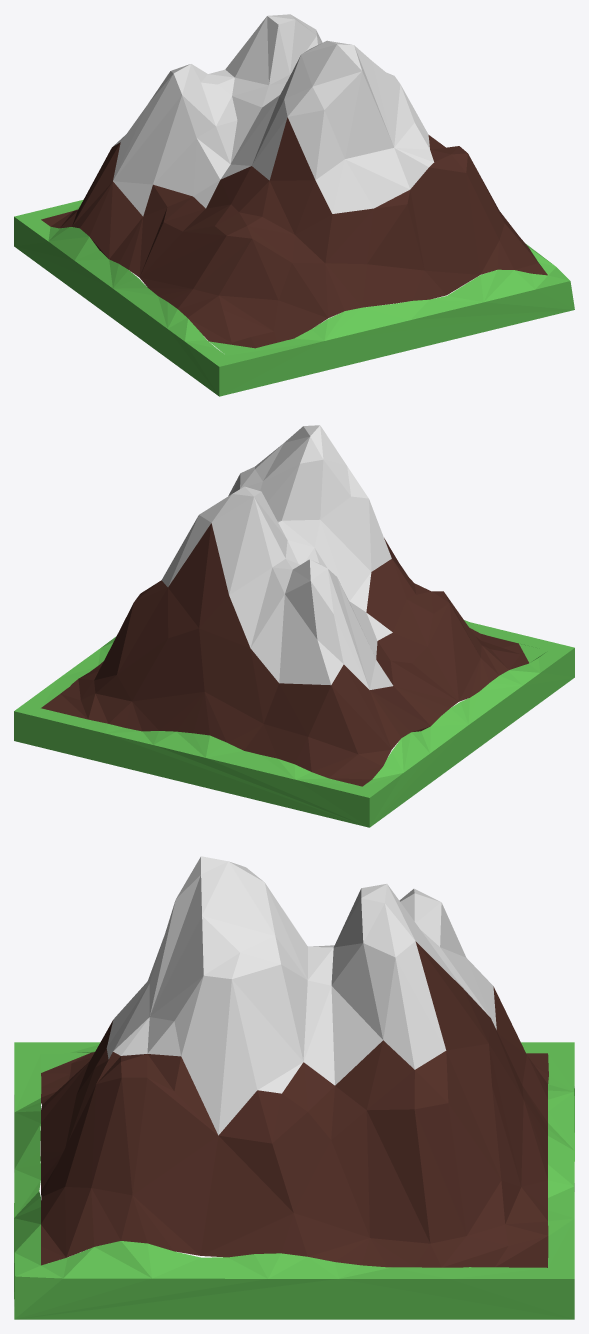
File: mountains_0.fbx
3 views of the same model, one above another, from view 1: azimuth 30°, elevation 25°; view 2: azimuth 150°, elevation 25°; view 3: azimuth 270°, elevation 25° (orthographic). The views are drawn at different scales.
Visible parts, largest first — view 1: Cube; view 2: Cube; view 3: Cube.
Part boxes in pixels (x1,y1,x2,y2): Cube: (14, 14, 574, 396); Cube: (14, 425, 574, 827); Cube: (14, 856, 574, 1319).
Bounding box in the file's own units: 2000 × 1381 × 2001.
